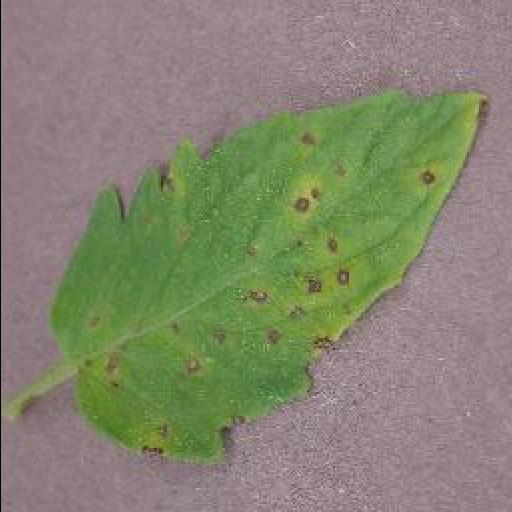disease_tomato: (48, 91, 488, 463)
